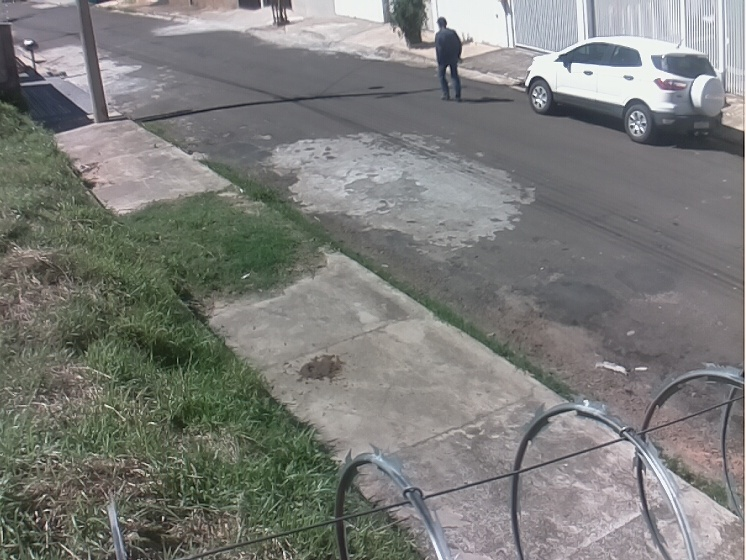person: (434, 16, 465, 102)
